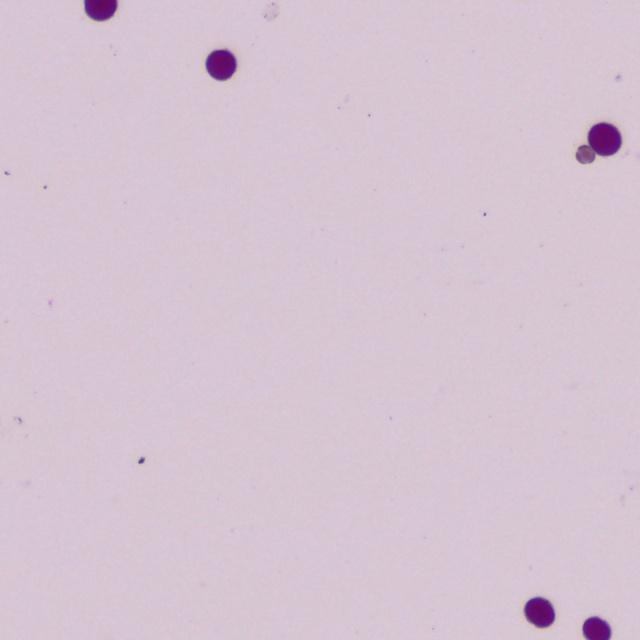viable: (588, 122, 621, 155), (524, 597, 554, 627), (206, 50, 236, 80), (583, 617, 610, 639), (85, 0, 116, 19)
